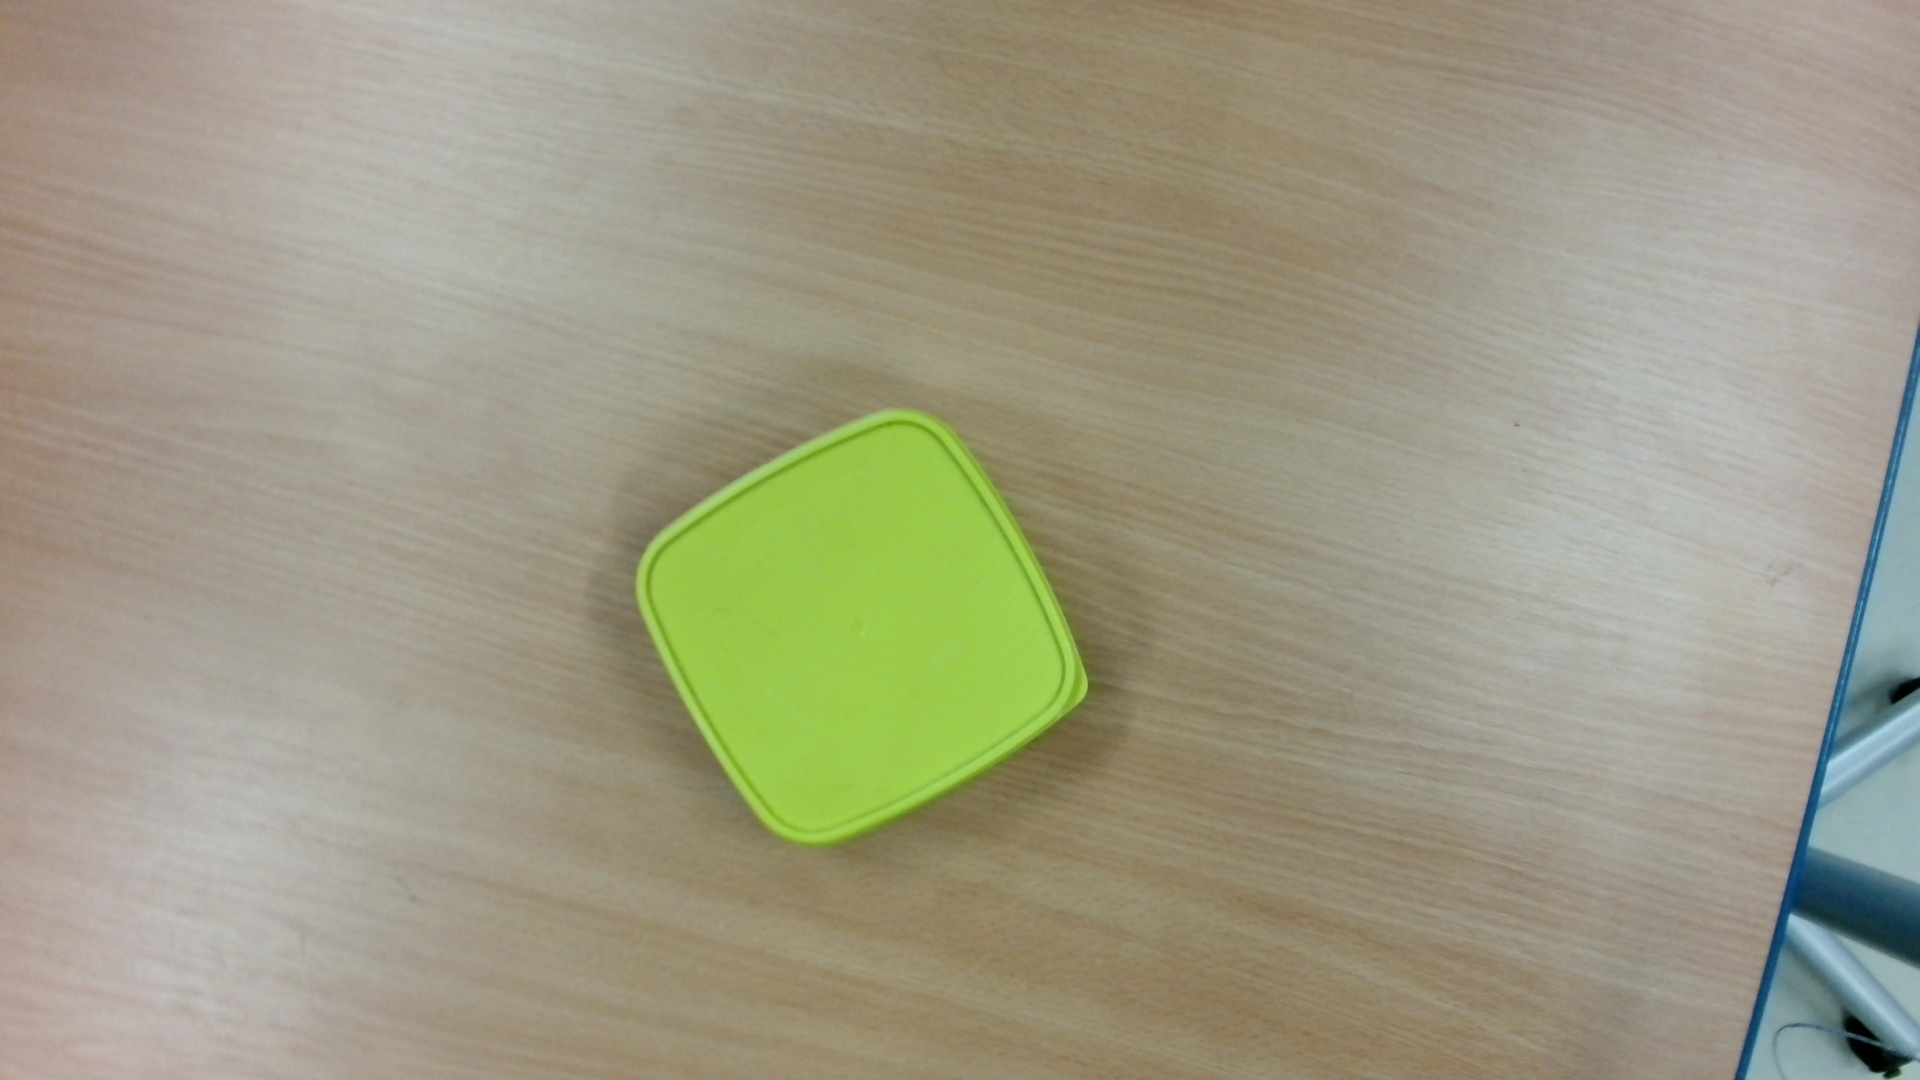Box: (622, 400, 1100, 858)
